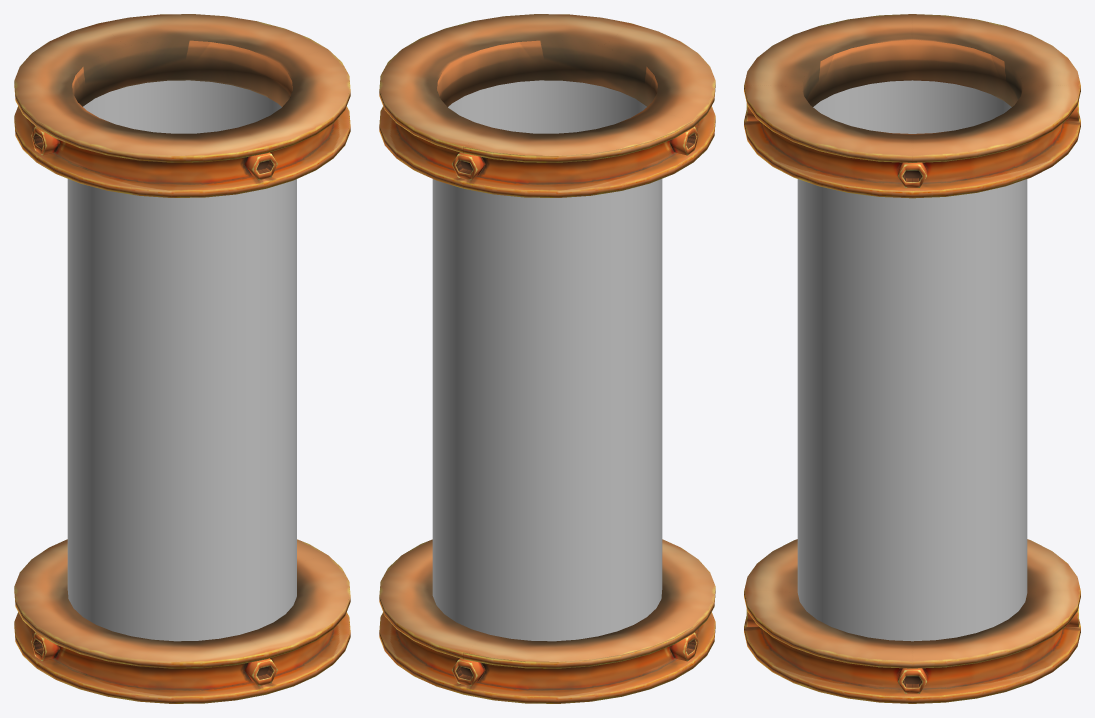
File: StraightPipe.fbx
3 views of the same model, side by side, from view 1: azimuth 30°, elevation 25°; view 2: azimuth 150°, elevation 25°; view 3: azimuth 270°, elevation 25° (orthographic).
Parts seen in each view (by area): view 1: Cylinder; view 2: Cylinder; view 3: Cylinder.
Part boxes in pixels (x1,y1,x2,y2): Cylinder: [14, 14, 350, 703]; Cylinder: [379, 14, 715, 703]; Cylinder: [744, 14, 1080, 703].
Size of the model in its own units: 167 by 300 by 167.
